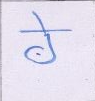e_matra: (29, 10, 50, 30)
